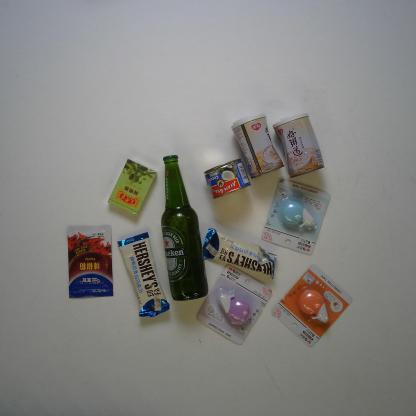Alcohol: (160, 153, 209, 302)
Candy: (106, 158, 158, 216)
Canned Food: (230, 112, 285, 180), (272, 112, 326, 178), (203, 158, 252, 200)
Chocolate: (116, 231, 171, 318), (202, 228, 278, 280)
Seasoner: (64, 224, 115, 299)
Stationery: (272, 262, 354, 348), (196, 264, 272, 346), (262, 180, 331, 256)
